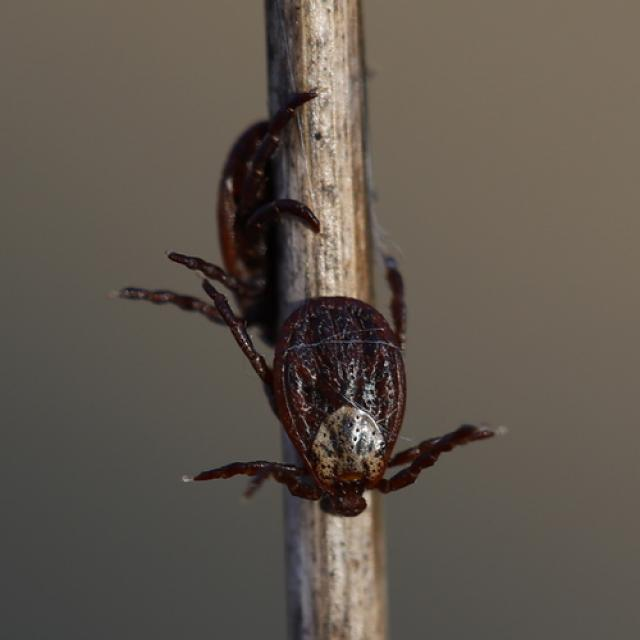Dermacentor Reticulatus-F: (183, 257, 504, 518)
